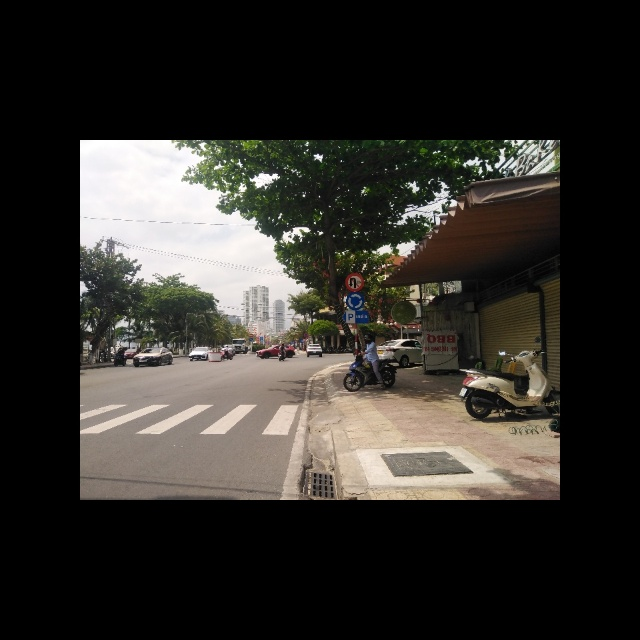Cấm xe ô tô quay đầu: (345, 273, 364, 291)
Nơi giao nhau chạy theo vòng xuyến: (345, 292, 364, 311)
Nơi đỗ xe: (342, 311, 370, 324)
